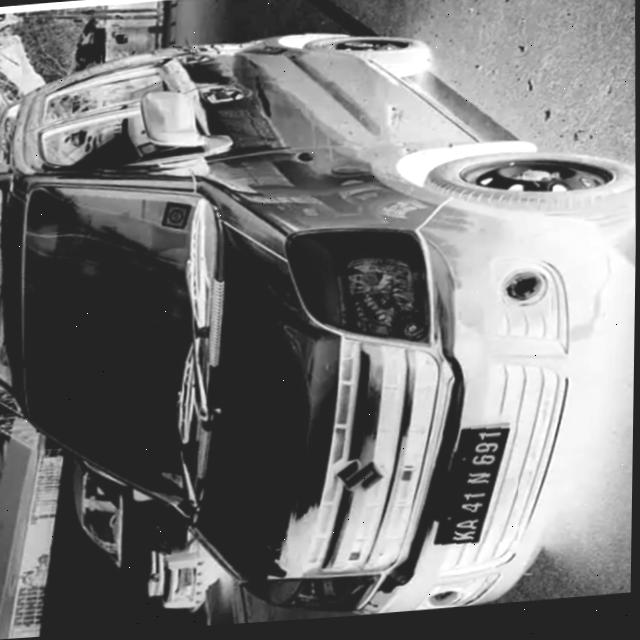Non_registered: (433, 423, 521, 552)
